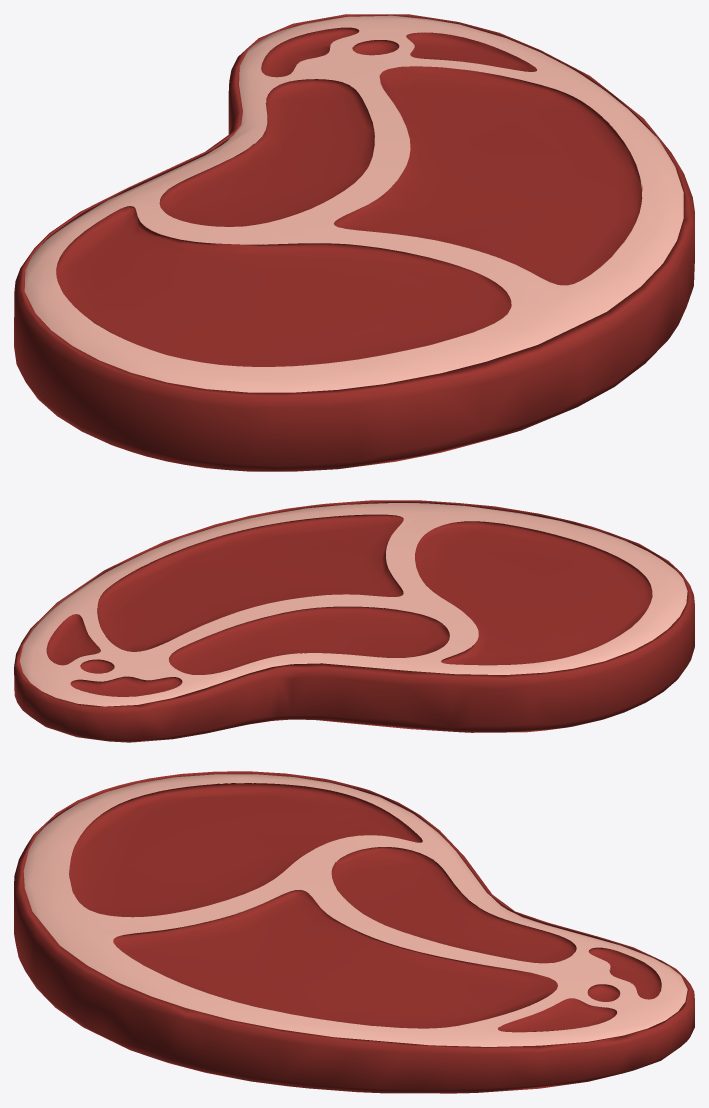
The model's file is Food (6).fbx.
3 views of the same model, one above another, from view 1: azimuth 30°, elevation 25°; view 2: azimuth 150°, elevation 25°; view 3: azimuth 270°, elevation 25° (orthographic). The views are drawn at different scales.
Parts seen in each view (by area): view 1: Cube.009; view 2: Cube.009; view 3: Cube.009.
Part boxes in pixels (x1,y1,x2,y2): Cube.009: (14, 14, 694, 471); Cube.009: (14, 500, 694, 742); Cube.009: (14, 771, 694, 1093).
Bounding box in the file's own units: 18.35 × 2.37 × 19.36.
